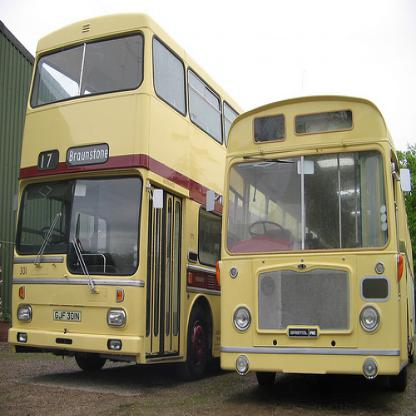bus: (6, 13, 244, 375), (216, 93, 415, 392)
